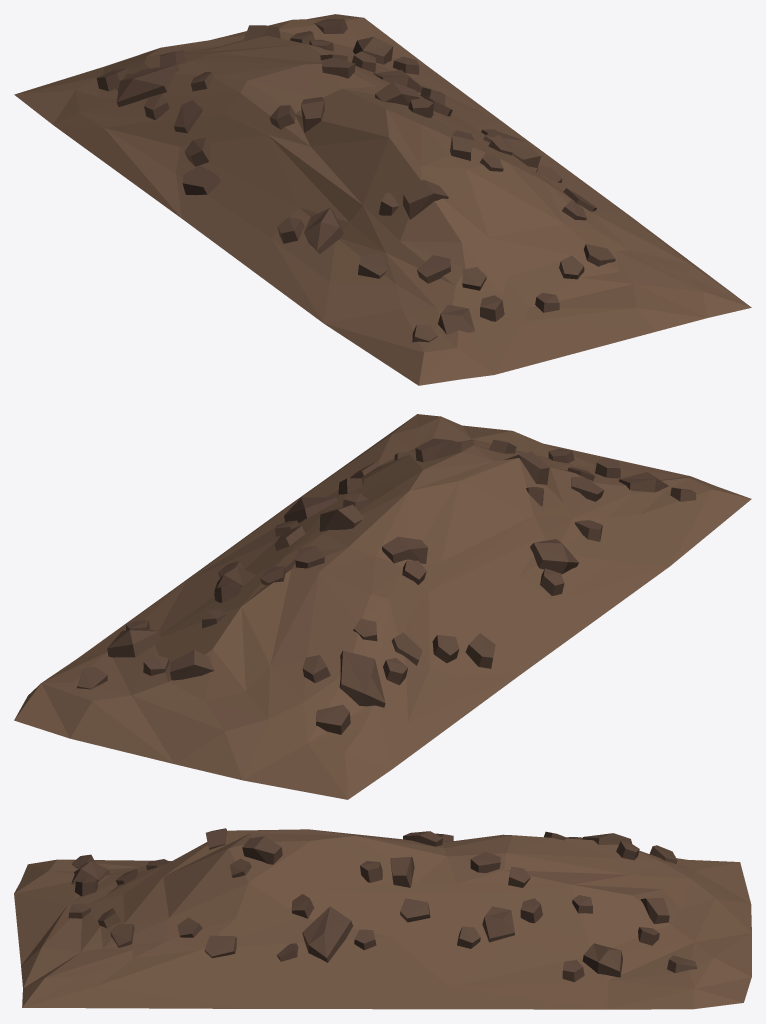
File: SM_Veh_Truck_01_DumpTray_02_Dirt_01.fbx
The picture shows the model from 3 angles, top to bottom: view 1: azimuth 30°, elevation 25°; view 2: azimuth 150°, elevation 25°; view 3: azimuth 270°, elevation 25°; orthographic projection. The views are drawn at different scales.
Visible parts, largest first — view 1: SM_Veh_Truck_01_DumpTray_02_Dirt_01; view 2: SM_Veh_Truck_01_DumpTray_02_Dirt_01; view 3: SM_Veh_Truck_01_DumpTray_02_Dirt_01.
Part boxes in pixels (box(x1,y1,x2,y2)): SM_Veh_Truck_01_DumpTray_02_Dirt_01: box(14, 14, 751, 385); SM_Veh_Truck_01_DumpTray_02_Dirt_01: box(14, 414, 751, 799); SM_Veh_Truck_01_DumpTray_02_Dirt_01: box(14, 828, 751, 1009).
Bounding box in the file's own units: 249 × 80.22 × 522.
